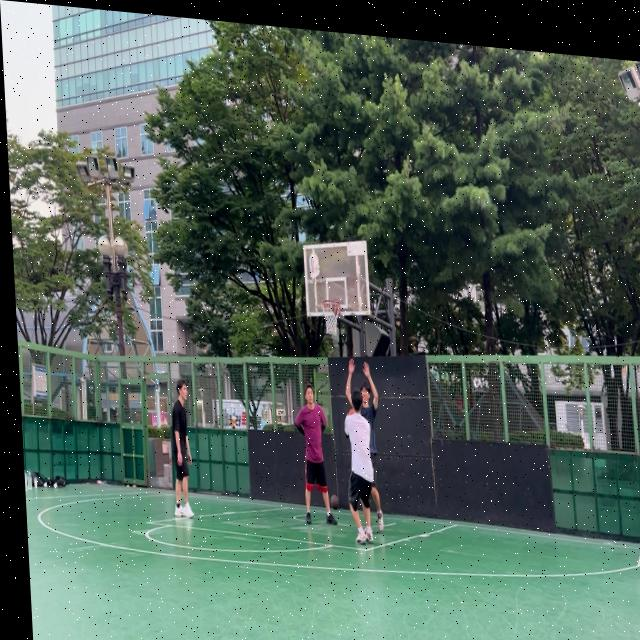basketball: (330, 493, 340, 510)
hoop: (320, 299, 341, 337)
